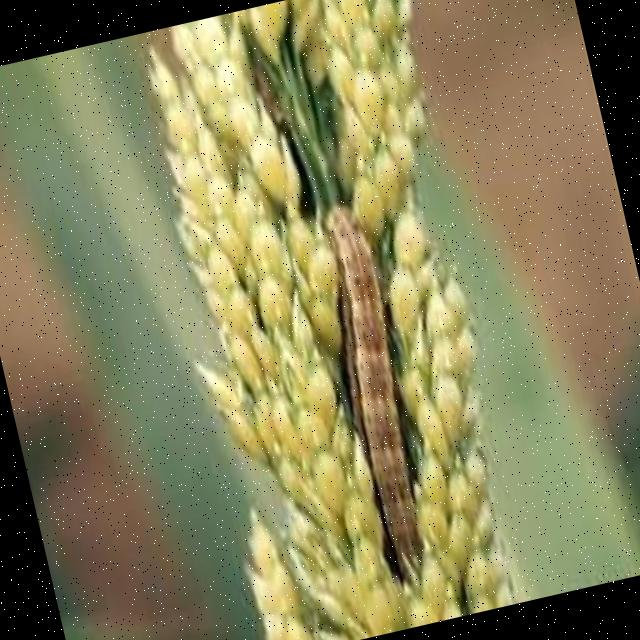worm: (301, 193, 475, 612)
